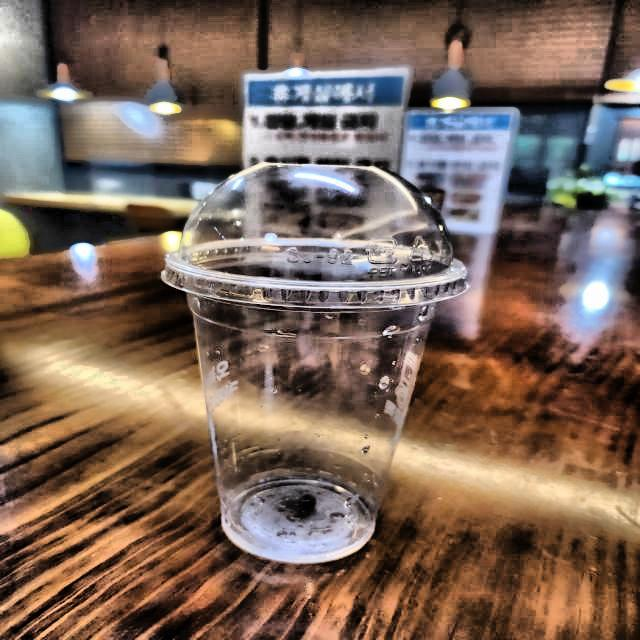plastic cup: (119, 121, 506, 614)
